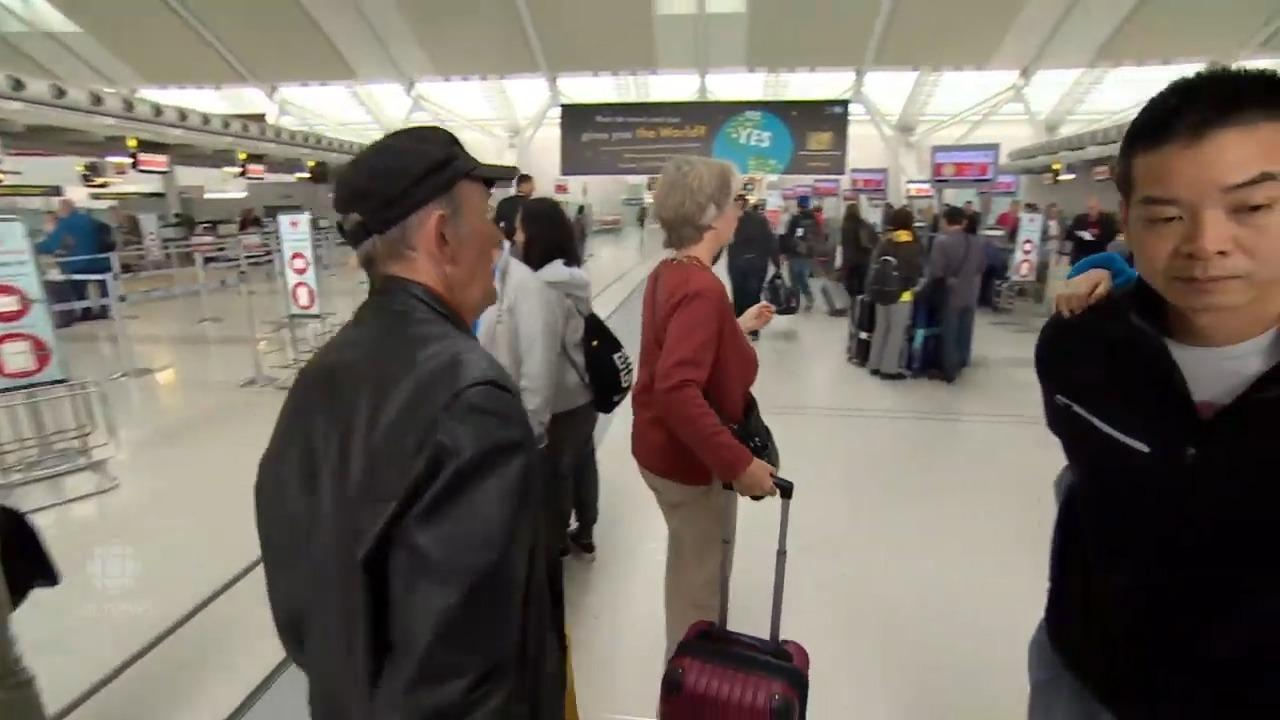luggage: (659, 617, 816, 720), (902, 300, 950, 377), (852, 292, 887, 367)
